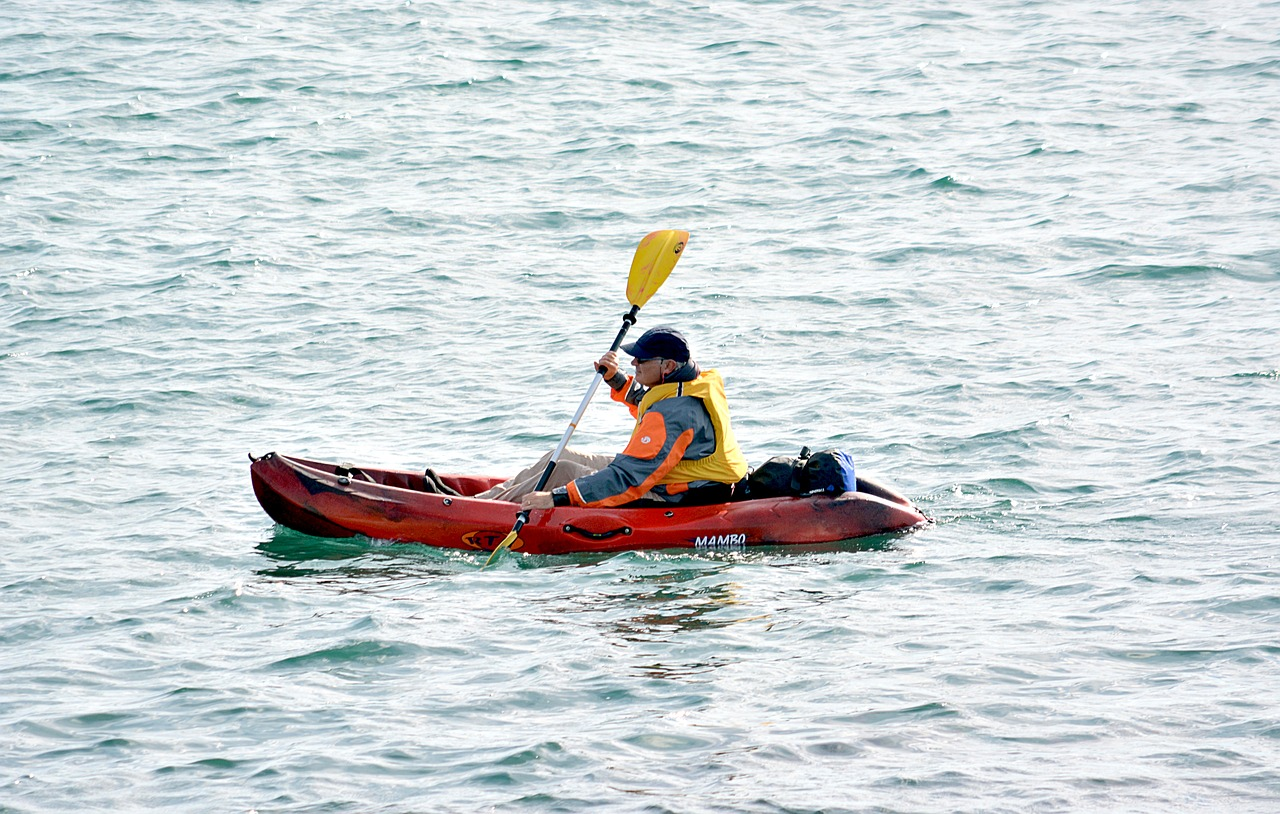kayak: (251, 449, 927, 551)
